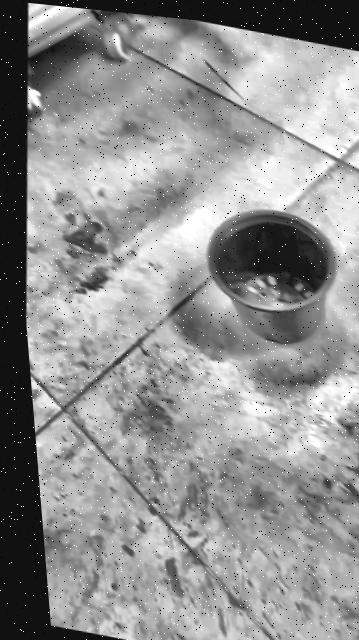pot: (196, 197, 346, 355)
